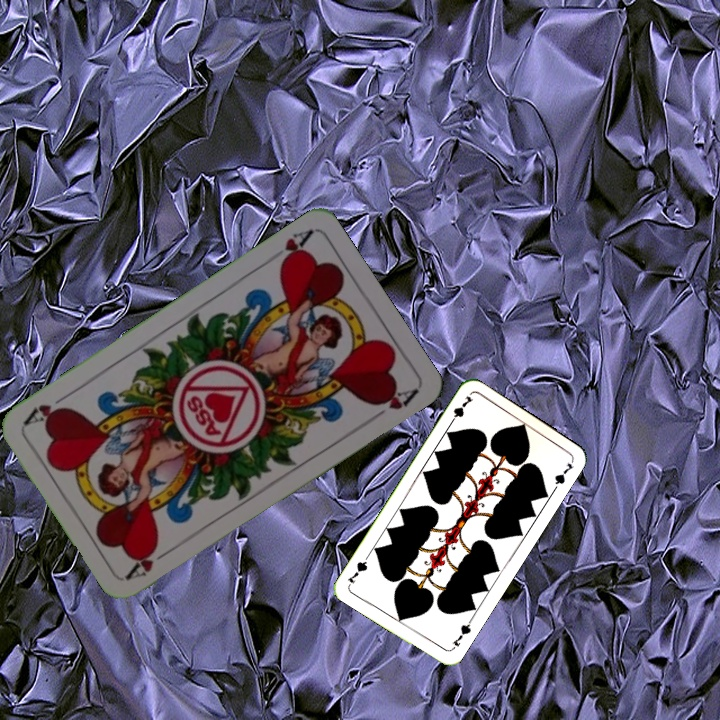G7: (445, 391, 476, 428), (447, 616, 474, 652)
HA: (123, 542, 177, 582), (275, 225, 315, 270)
